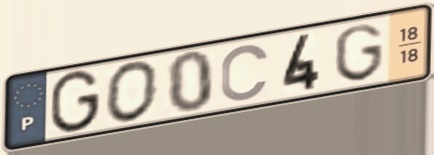0: (160, 48, 218, 115)
4: (280, 30, 323, 93)
C: (218, 42, 272, 104)
G: (48, 68, 103, 135), (332, 20, 386, 84)
O: (103, 57, 161, 126)
